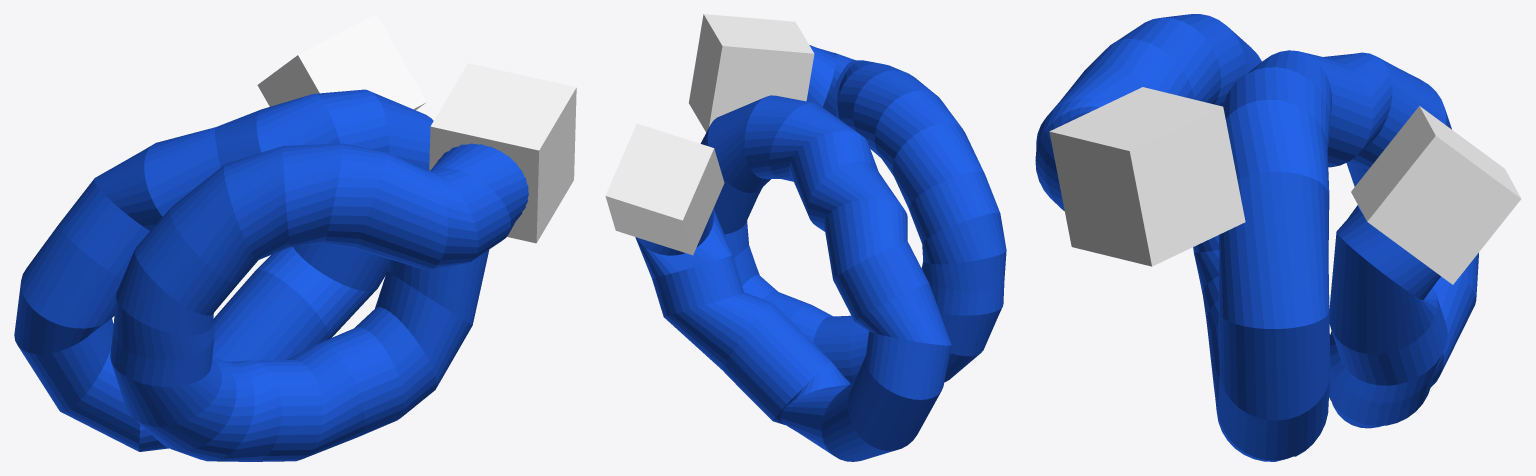
Rendered from cabo de rede.fbx.
3 views of the same model, side by side, from view 1: azimuth 30°, elevation 25°; view 2: azimuth 150°, elevation 25°; view 3: azimuth 270°, elevation 25° (orthographic). The views are drawn at different scales.
Parts seen in each view (by area): view 1: Cylinder, Cube.001, Cube; view 2: Cylinder, Cube, Cube.001; view 3: Cylinder, Cube.001, Cube.
Boxes of the visible parts, x1=… form: Cylinder: x1=14, y1=89, x2=528, y2=461; Cube.001: x1=429, y1=63, x2=576, y2=243; Cube: x1=257, y1=14, x2=426, y2=110; Cylinder: x1=635, y1=45, x2=1006, y2=461; Cube: x1=605, y1=123, x2=724, y2=255; Cube.001: x1=689, y1=14, x2=814, y2=132; Cylinder: x1=1035, y1=14, x2=1478, y2=461; Cube.001: x1=1049, y1=87, x2=1245, y2=266; Cube: x1=1351, y1=106, x2=1521, y2=284.
Size of the model in its own units: 975 by 830 by 876.
